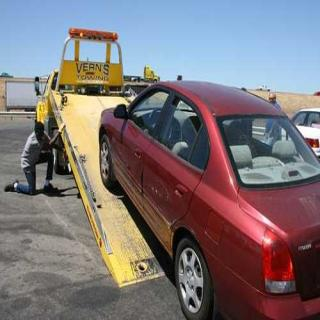Towing_truck: (33, 27, 179, 291)
